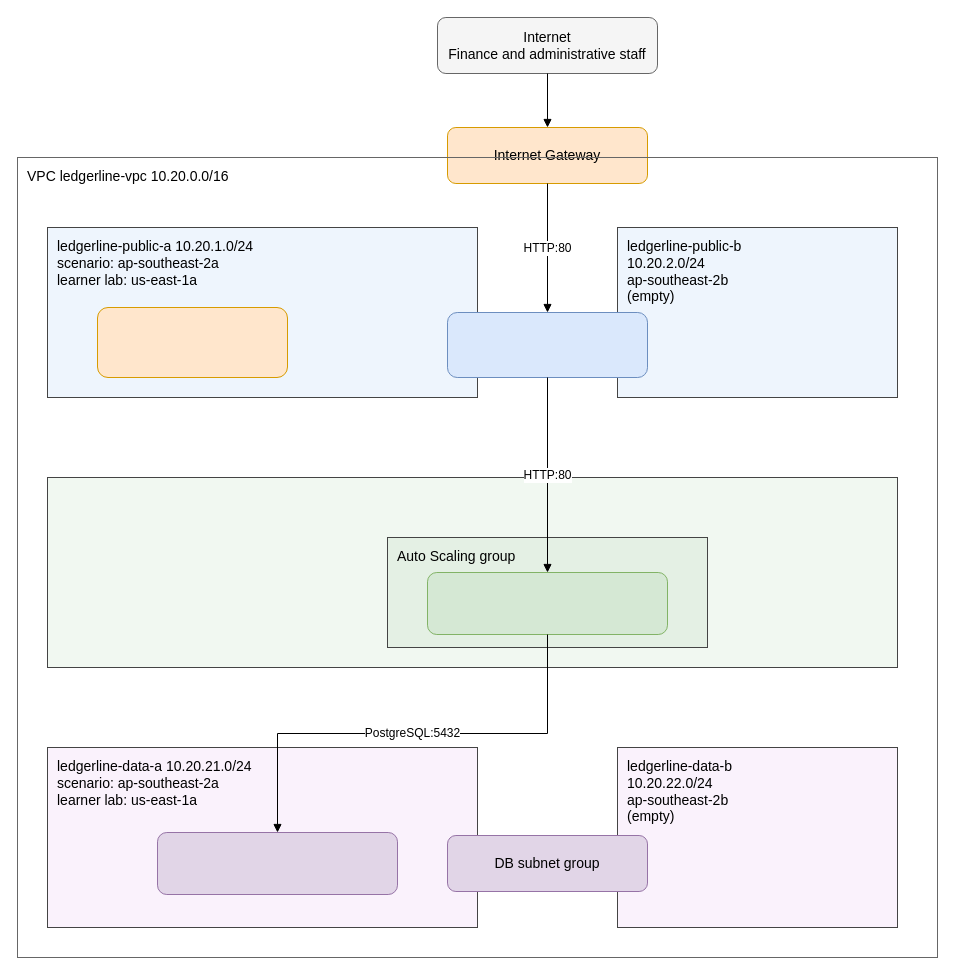
This 955x975 diagram has some shape labels left out. Here are the shapes that lost their labels. From the top down, the box of each, then its label:
(96, 306, 288, 378): NAT Gateway ledgerline-nat outbound for the app subnet
(446, 312, 648, 378): Application Load Balancer ledgerline-alb
(46, 476, 898, 668): ledgerline-app-a 10.20.11.0/24 scenario: ap-southeast-2a learner lab: us-east-1a
(426, 572, 668, 634): EC2 Amazon Linux
(156, 832, 398, 894): RDS for PostgreSQL ledgerline-db
